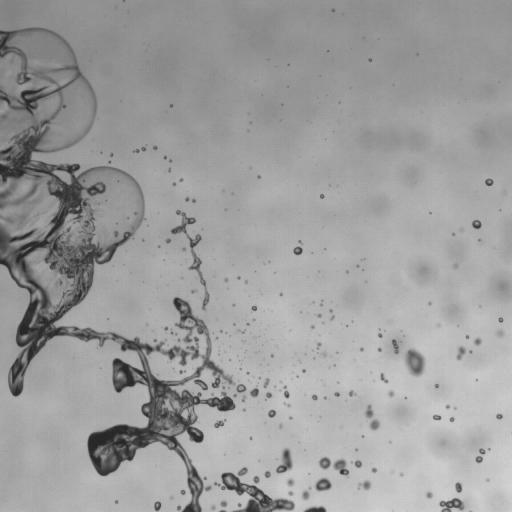droplet: (404, 348, 425, 376), (314, 477, 331, 491), (357, 480, 371, 490), (293, 241, 302, 255), (456, 346, 465, 359), (302, 487, 311, 500), (236, 384, 246, 393), (219, 500, 227, 511), (250, 387, 258, 397), (214, 420, 225, 427), (472, 220, 481, 228), (455, 482, 462, 492), (154, 501, 161, 511), (473, 337, 481, 345), (286, 478, 294, 486), (485, 178, 493, 185), (497, 329, 504, 337), (268, 409, 275, 417), (353, 460, 361, 467), (432, 414, 441, 420), (426, 492, 433, 498), (349, 390, 355, 396), (388, 390, 394, 396), (266, 392, 272, 398), (496, 413, 502, 419), (264, 471, 270, 477), (251, 305, 256, 311), (316, 342, 321, 348), (312, 394, 317, 400), (165, 238, 170, 243), (321, 351, 326, 356), (371, 467, 376, 472), (180, 490, 185, 495), (242, 395, 246, 401), (141, 146, 145, 151), (453, 263, 457, 268), (191, 289, 196, 293), (498, 317, 502, 322), (334, 392, 339, 396), (284, 402, 289, 406), (449, 417, 454, 421), (288, 491, 293, 495), (211, 505, 215, 510), (153, 145, 157, 149), (320, 194, 324, 198), (185, 197, 189, 201), (317, 313, 321, 317), (330, 316, 334, 320), (164, 327, 168, 331), (378, 333, 382, 337), (134, 149, 139, 152), (179, 370, 184, 373), (310, 325, 314, 328), (377, 348, 381, 351), (445, 405, 449, 408), (11, 87, 14, 90), (224, 278, 227, 281), (320, 302, 323, 305), (435, 384, 438, 387), (279, 424, 282, 427), (180, 178, 182, 181), (172, 183, 175, 185), (192, 199, 195, 201), (428, 302, 431, 304), (466, 335, 468, 338), (360, 348, 363, 350), (303, 369, 305, 372), (243, 408, 245, 411), (164, 156, 166, 158), (169, 159, 171, 161), (258, 175, 260, 177), (126, 216, 128, 218), (115, 224, 117, 226), (183, 248, 185, 250), (280, 293, 282, 295), (400, 473, 402, 475), (486, 479, 488, 481)
ligament: (0, 30, 235, 511), (171, 209, 209, 310), (214, 467, 294, 511), (318, 457, 349, 476), (364, 405, 380, 430), (276, 448, 292, 473), (439, 498, 464, 511), (475, 448, 485, 463), (303, 505, 326, 511), (392, 339, 398, 353), (380, 373, 388, 383), (283, 386, 289, 398), (263, 378, 269, 387), (35, 213, 40, 217), (170, 330, 175, 334)
